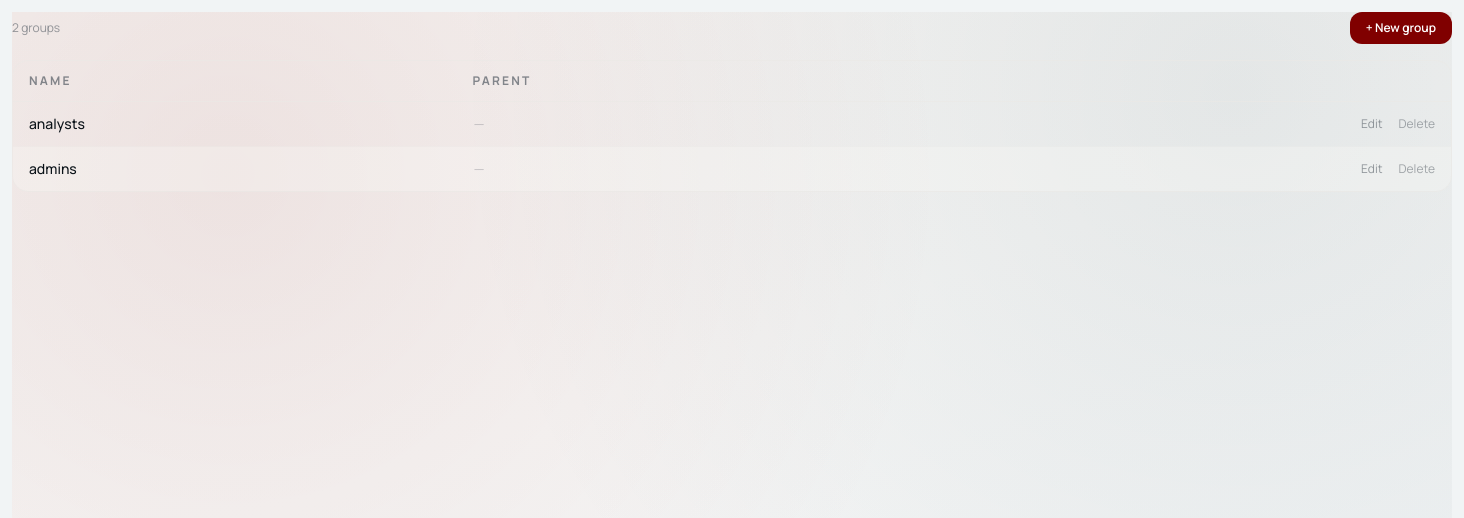
Test case: GroupsPanel – delete group › shows confirm prompt on first Delete click
Expected: the text "analysts" is shown, top-left (13, 102), bottom-right (457, 146)
Click the button "Delete" in the row of "analysts": (1417, 124) top-left (1398, 116), bottom-right (1435, 132)
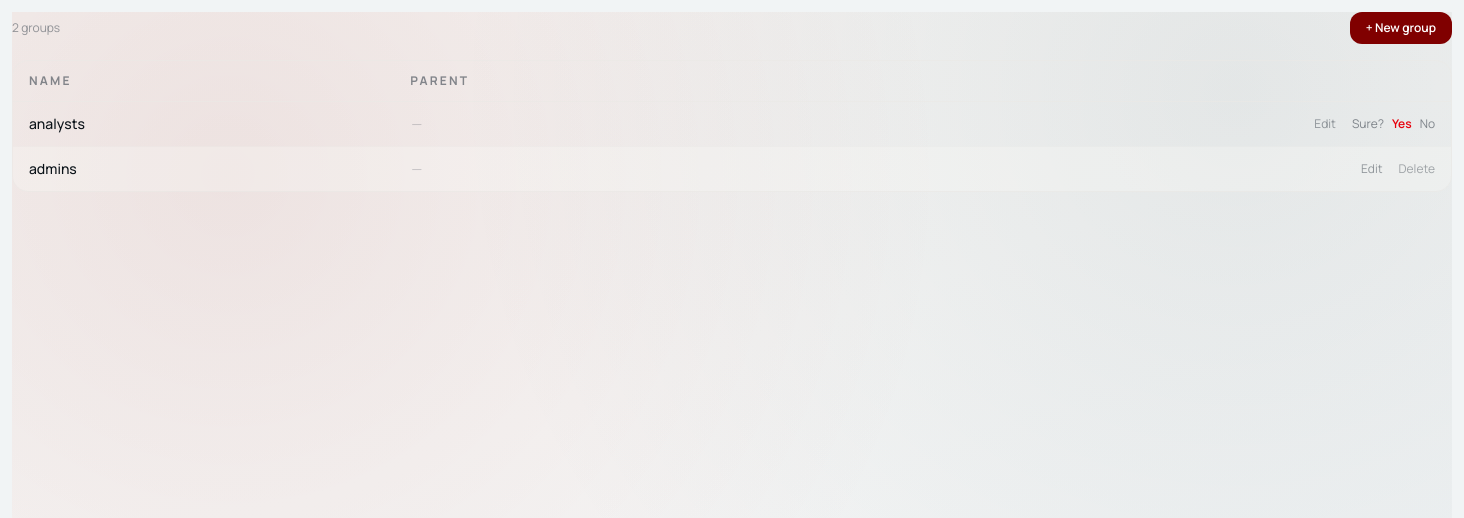
Expected: the text "Sure?" is shown, top-left (1352, 116), bottom-right (1384, 132)
